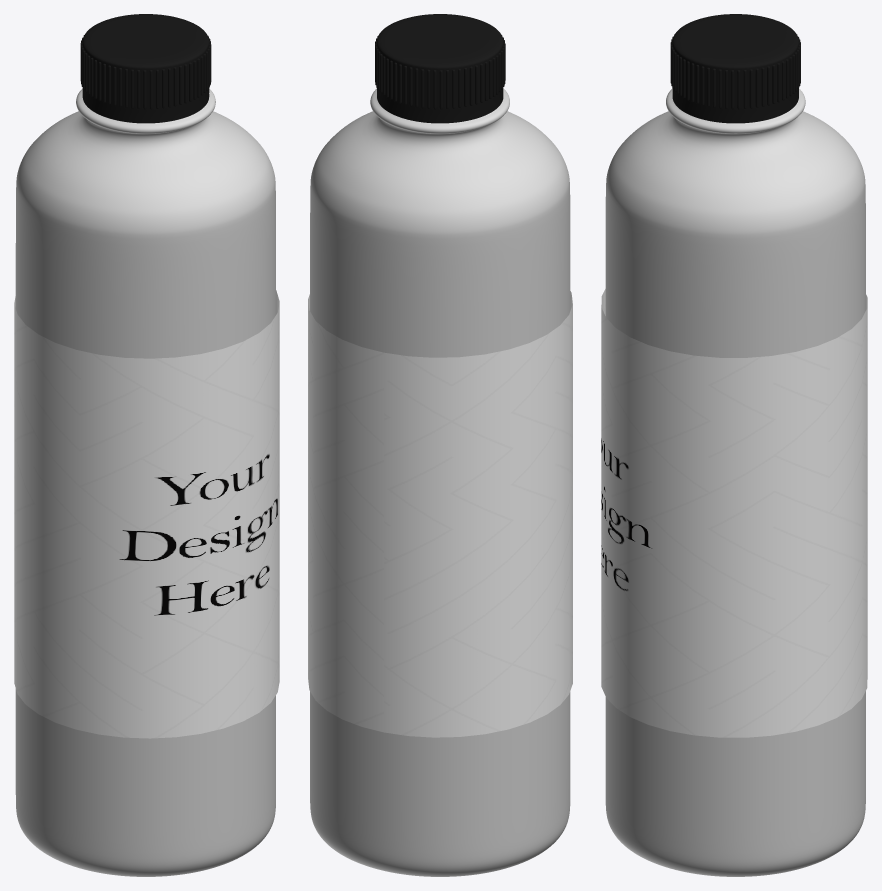
The model's file is glass_Bottle.glb.
The picture shows the model from 3 angles, left to right: view 1: azimuth 30°, elevation 25°; view 2: azimuth 150°, elevation 25°; view 3: azimuth 270°, elevation 25°; orthographic projection.
Visible parts, largest first — view 1: Label, Bottle, Cap; view 2: Label, Bottle, Cap; view 3: Label, Bottle, Cap.
Boxes of the visible parts, x1,y1,x2,y2 form: Label: (14, 290, 279, 738); Bottle: (15, 88, 275, 876); Cap: (80, 14, 211, 123); Label: (308, 291, 572, 737); Bottle: (310, 88, 570, 876); Cap: (375, 14, 505, 123); Label: (601, 289, 867, 737); Bottle: (605, 88, 865, 876); Cap: (670, 14, 800, 123).
Bounding box in the file's own units: 1.44 × 4.78 × 1.46.
Materials: 3 (1 with a texture image).
